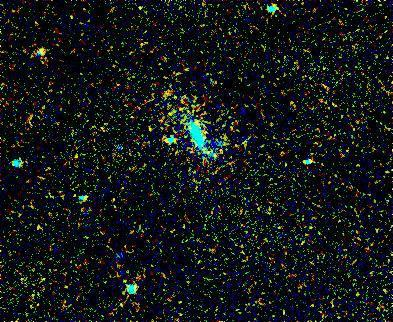star: (150, 73, 180, 103)
